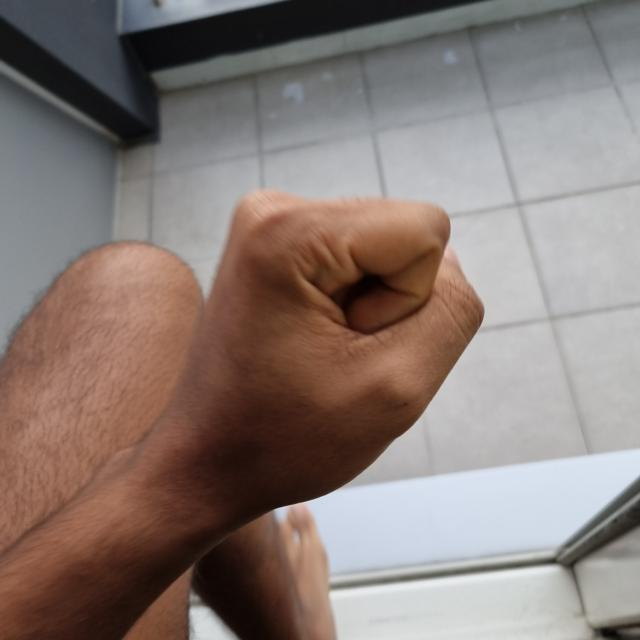Rock: (158, 189, 482, 638)
